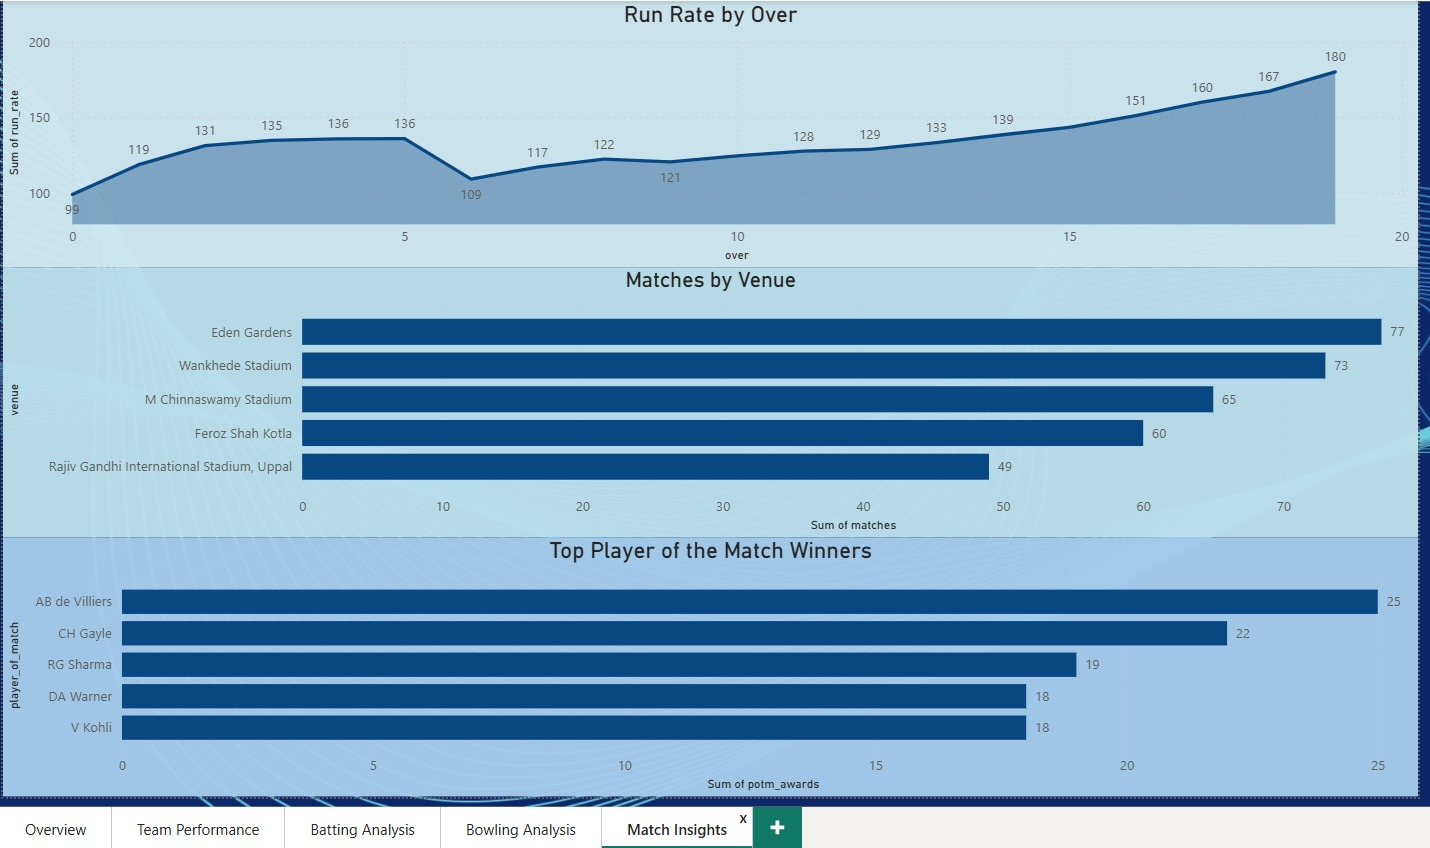

What the dashboard file says about the page in this screenshot:
{"tool":"powerbi","page":{"name":"Match Insights","canvas":[1280,720],"ordinal":4},"visuals":[{"type":"lineChart","title":"Run Rate by Over","fields":{"Y":["Sum(over_runrate.run_rate)"],"Category":["over_runrate.over"]},"box":[0,0,1280.3,241],"z":0},{"type":"barChart","title":"Matches by Venue","fields":{"Category":["venue_stats.venue"],"Y":["Sum(venue_stats.matches)"]},"box":[0,241,1280.3,244.3],"z":1000},{"type":"barChart","title":"Top Player of the Match Winners","fields":{"Category":["player_of_match.player_of_match"],"Y":["Sum(player_of_match.potm_awards)"]},"box":[0,485.2,1280.3,234.4],"z":2000}]}

Visuals, with their boxes on the page's 1280x720 design canvas (x1, y1, x2, y2). These are canvas units, not pixel positions in the 1430x848 screenshot, which may show the page scaled, cropped or inside an application window:
"Run Rate by Over" lineChart: [0,0,1280,241]
"Matches by Venue" barChart: [0,241,1280,485]
"Top Player of the Match Winners" barChart: [0,485,1280,720]
